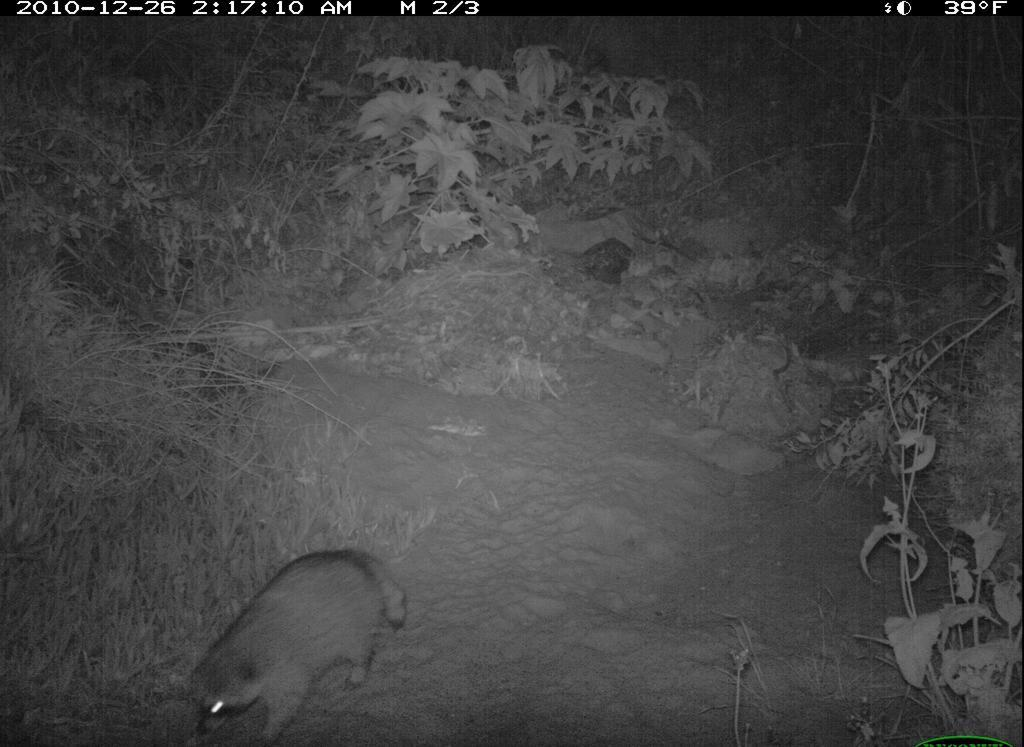raccoon: (178, 536, 429, 747)
